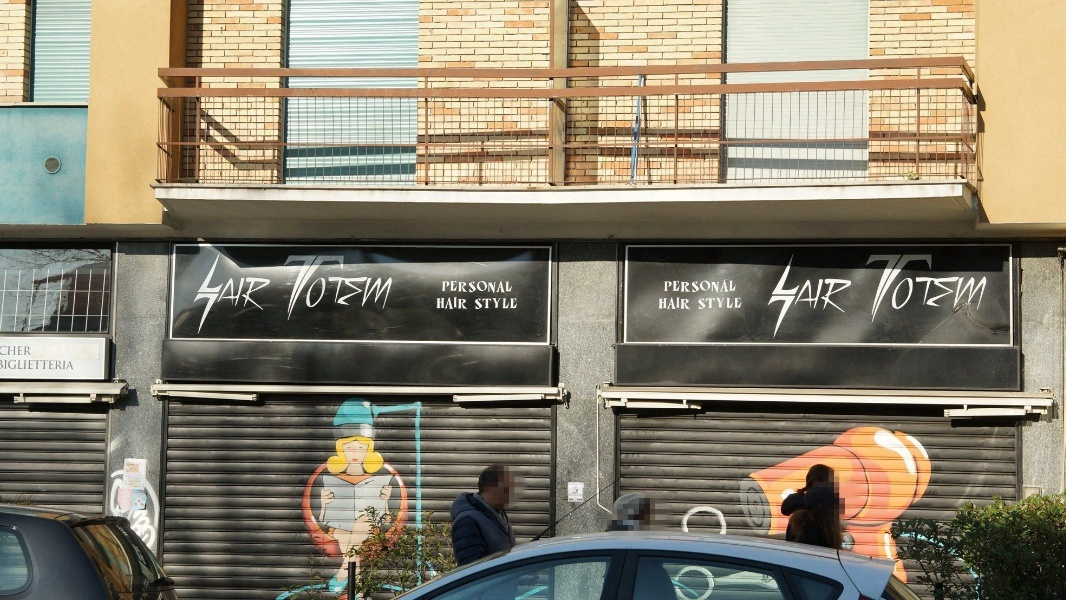text: (801, 252, 816, 342), (817, 252, 832, 342), (833, 252, 848, 342), (225, 252, 240, 337), (241, 252, 256, 337), (257, 252, 271, 337), (881, 253, 896, 328), (897, 253, 912, 328), (913, 253, 928, 328), (929, 253, 944, 328), (945, 253, 960, 328), (961, 253, 976, 328), (977, 253, 992, 328), (385, 255, 401, 325), (289, 255, 304, 325), (305, 255, 320, 325), (321, 255, 336, 325), (337, 255, 352, 325), (353, 255, 368, 325), (369, 255, 384, 325), (870, 253, 880, 328), (794, 252, 800, 342), (219, 252, 224, 337), (849, 252, 853, 342), (993, 253, 996, 328), (497, 280, 513, 294), (449, 280, 464, 294), (465, 280, 480, 294), (481, 280, 496, 294), (673, 296, 688, 310), (673, 279, 688, 293), (689, 279, 704, 293), (705, 279, 720, 293), (721, 279, 736, 293), (449, 296, 464, 309), (705, 297, 720, 310), (721, 297, 736, 310), (659, 296, 672, 310), (481, 298, 496, 310), (497, 298, 512, 310), (1, 346, 16, 356), (17, 346, 32, 356), (17, 360, 32, 370), (33, 360, 48, 370), (49, 360, 64, 370), (437, 296, 448, 309), (5, 360, 16, 370), (665, 279, 672, 293), (65, 360, 74, 370), (442, 280, 448, 294), (737, 297, 743, 310), (699, 297, 704, 310), (475, 298, 480, 310), (513, 298, 517, 310), (465, 296, 468, 309), (689, 296, 691, 310), (737, 279, 738, 293)
